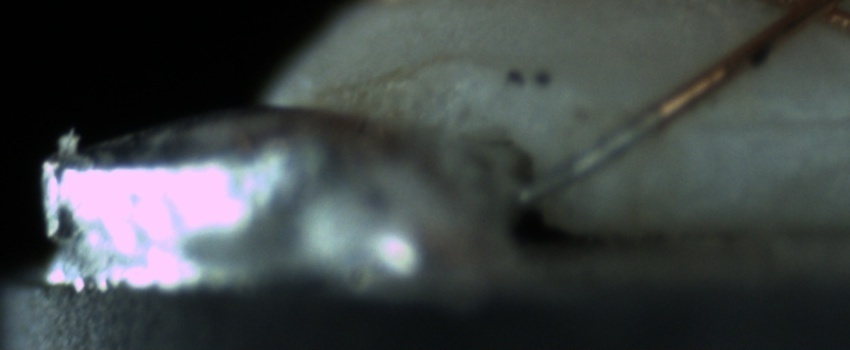CL: (771, 1, 846, 32)
DL: (687, 90, 849, 156)
TS: (515, 104, 654, 210)
